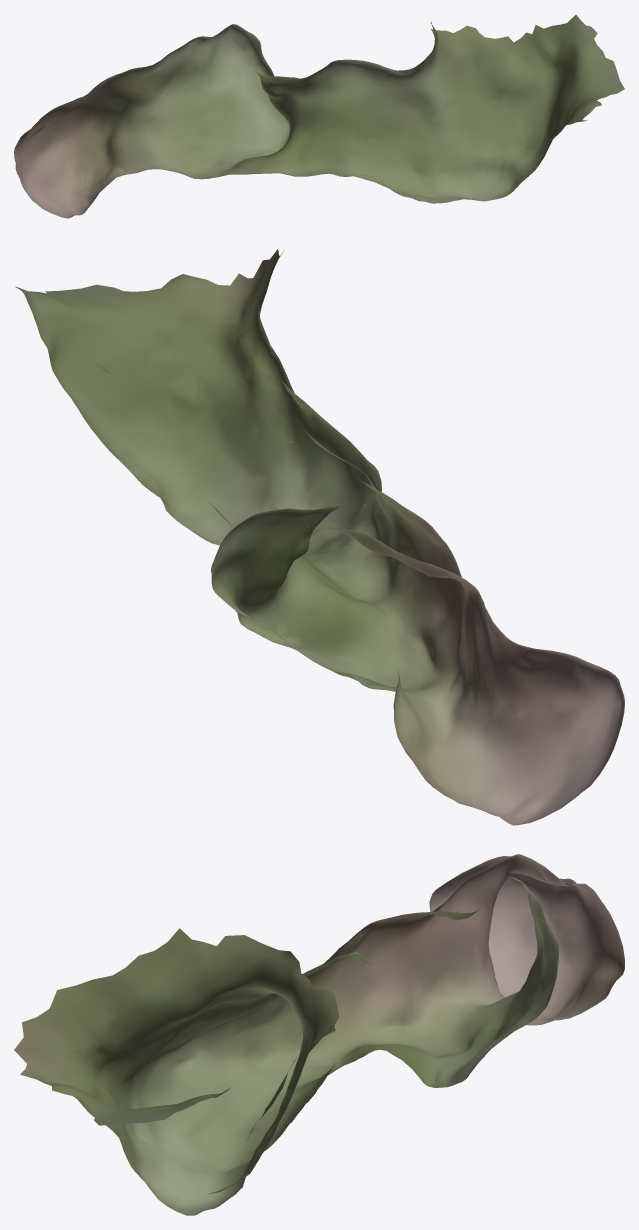
File: LODS_Cloud_global_8.glb
The picture shows the model from 3 angles, top to bottom: view 1: azimuth 30°, elevation 25°; view 2: azimuth 150°, elevation 25°; view 3: azimuth 270°, elevation 25°; orthographic projection. The views are drawn at different scales.
Parts seen in each view (by area): view 1: LOD0; view 2: LOD0; view 3: LOD0.
Part boxes in pixels (x1=…): LOD0: x1=14, y1=15, x2=624, y2=218; LOD0: x1=15, y1=249, x2=624, y2=825; LOD0: x1=14, y1=854, x2=624, y2=1215.
Size of what is drawn, in the model's own units: 0.3533 by 0.142 by 0.2619.
